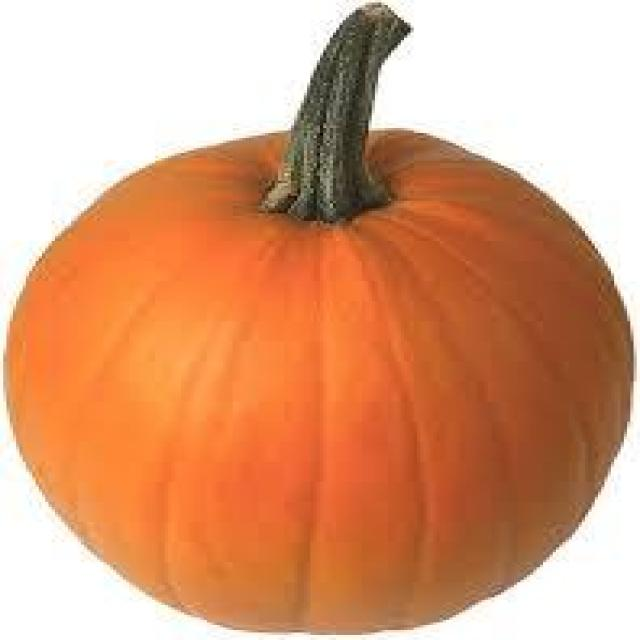organic: (0, 5, 637, 637)
